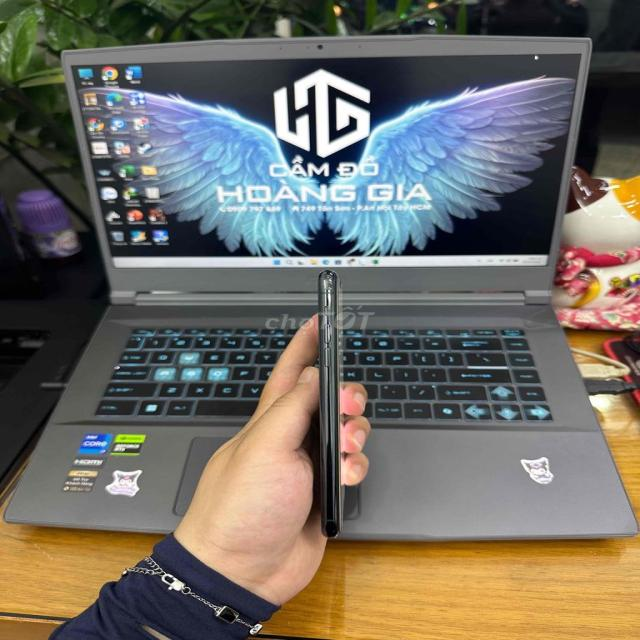gen_11: (318, 270, 345, 536)
